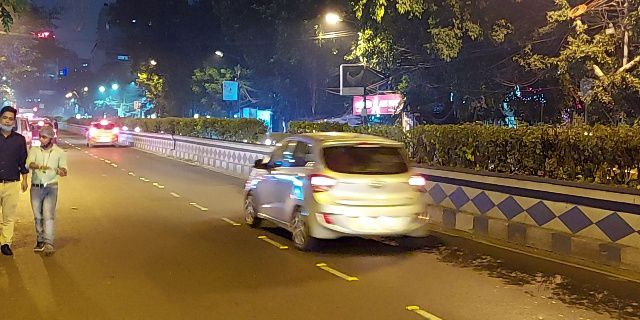Car: (240, 127, 437, 262)
